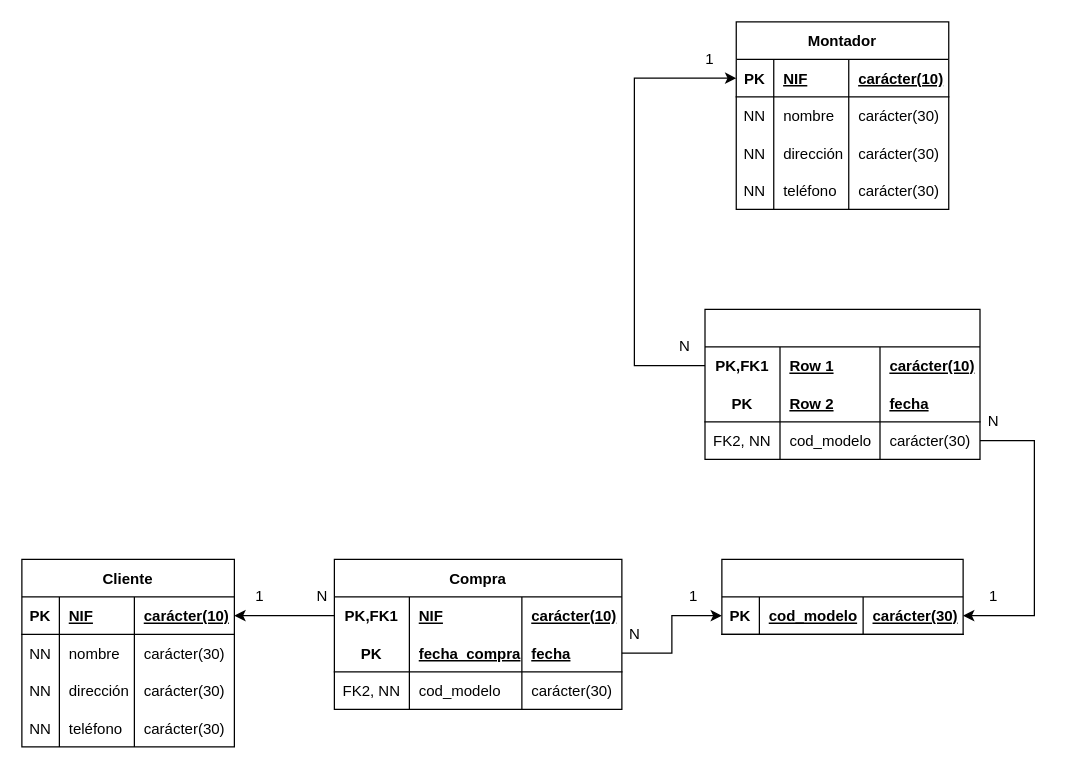
Image size: 1066x769. Some labels were removed from this diagram. Each missing label, with the box of its shape:
Modelo_dormitorio: (721, 558, 963, 634)
Table: (704, 308, 980, 459)
